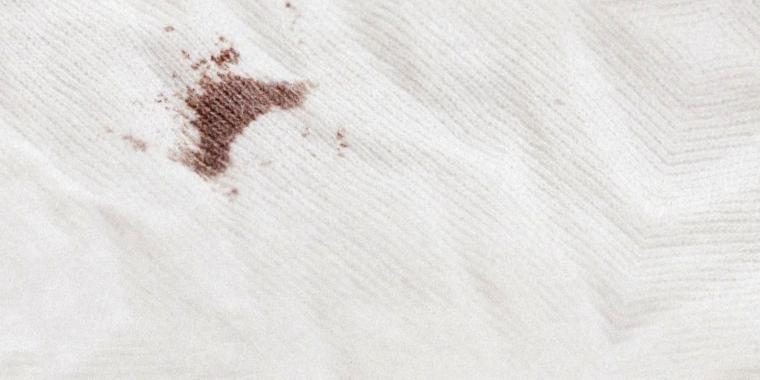stain: (172, 52, 308, 188)
